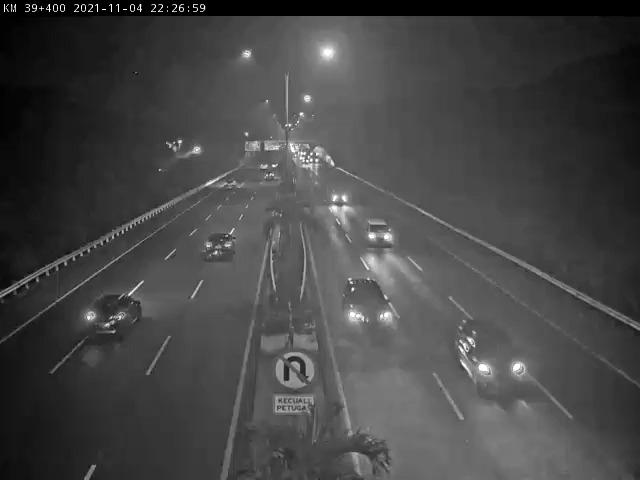car: (453, 316, 529, 393), (341, 275, 394, 336), (83, 294, 141, 340), (364, 217, 399, 249), (203, 230, 235, 263)
